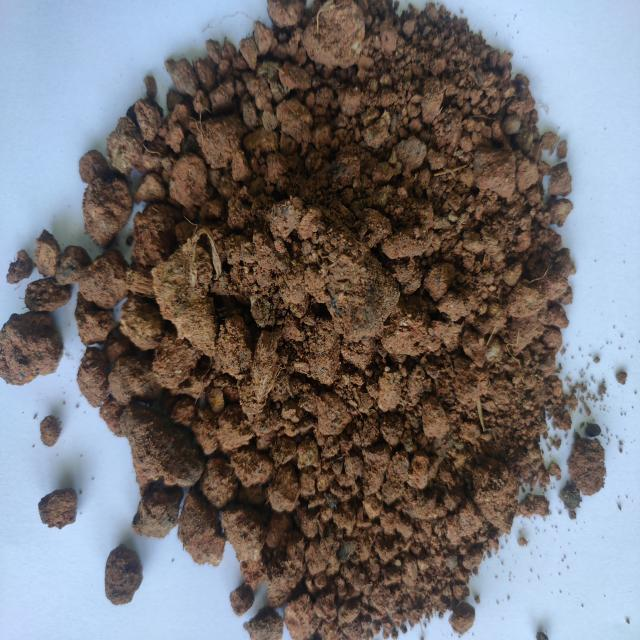soil: (121, 96, 570, 518)
